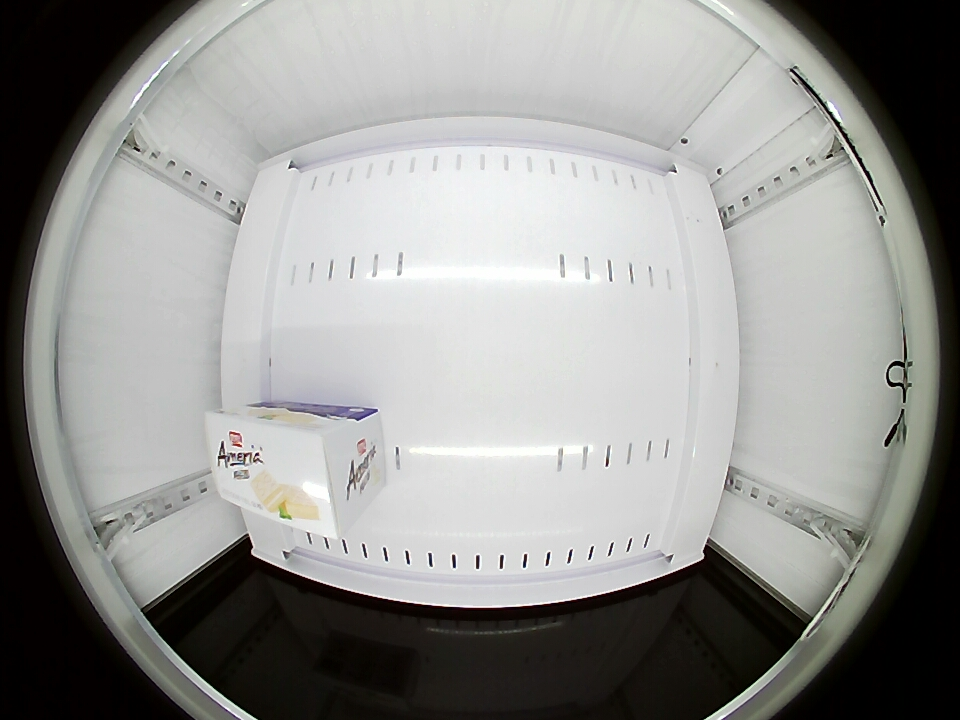meiniye: (204, 406, 372, 536)
